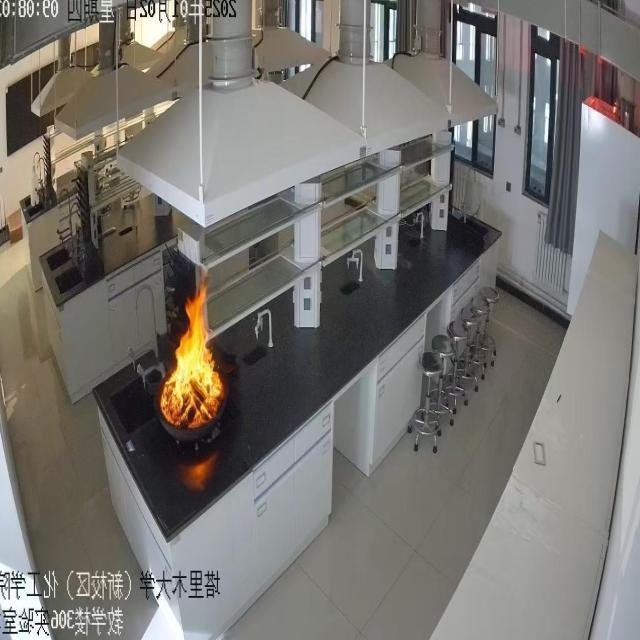smoke: (156, 274, 230, 437)
